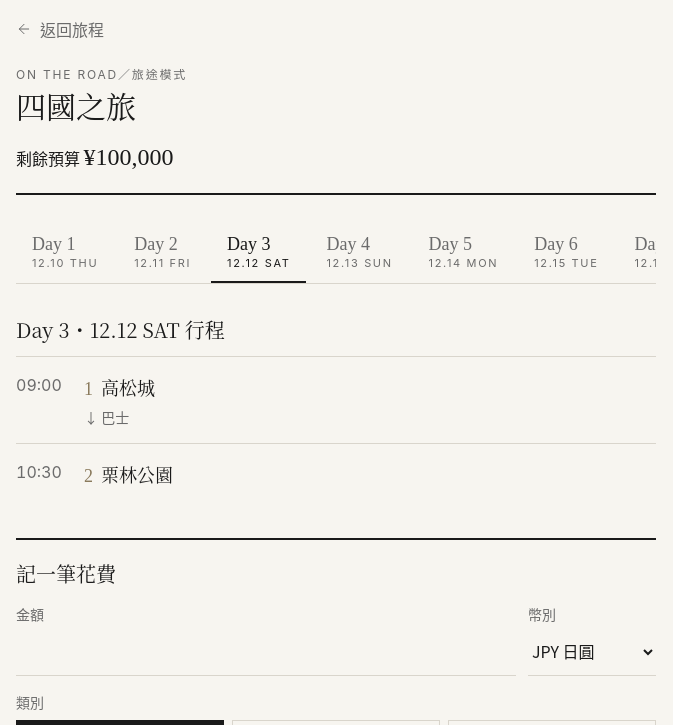
Test: travel mode › opens on today's day with a read-only itinerary and records expenses offline
The width and height of the screenshot is (673, 725).
Expected: the text "高松城" is shown, [101, 374, 155, 400]
Expected: the text "↓ 巴士" is shown, [84, 406, 129, 426]
Type "1500" into the field labelled "金額". click: (266, 652)
box: [16, 628, 516, 676]
(page scrolled)
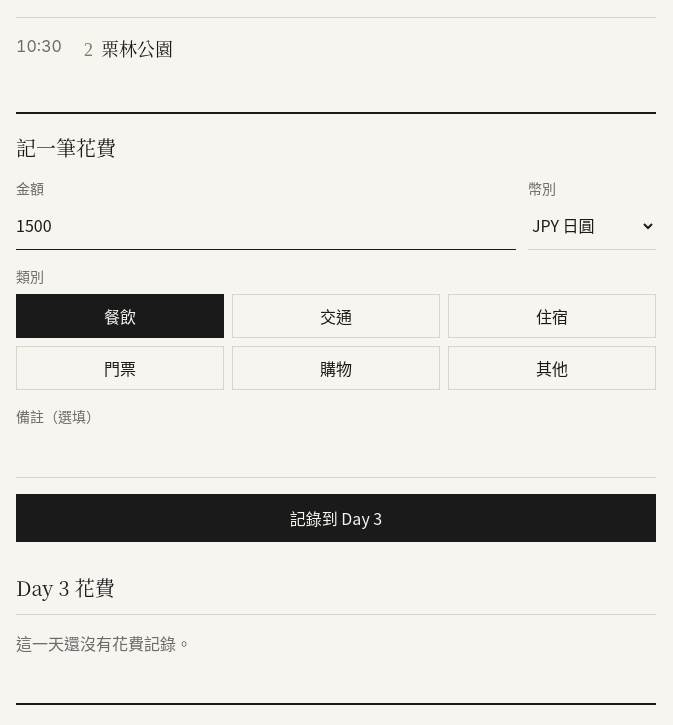
Click the radio button labelled "門票". click: (120, 368)
box: [16, 346, 224, 390]
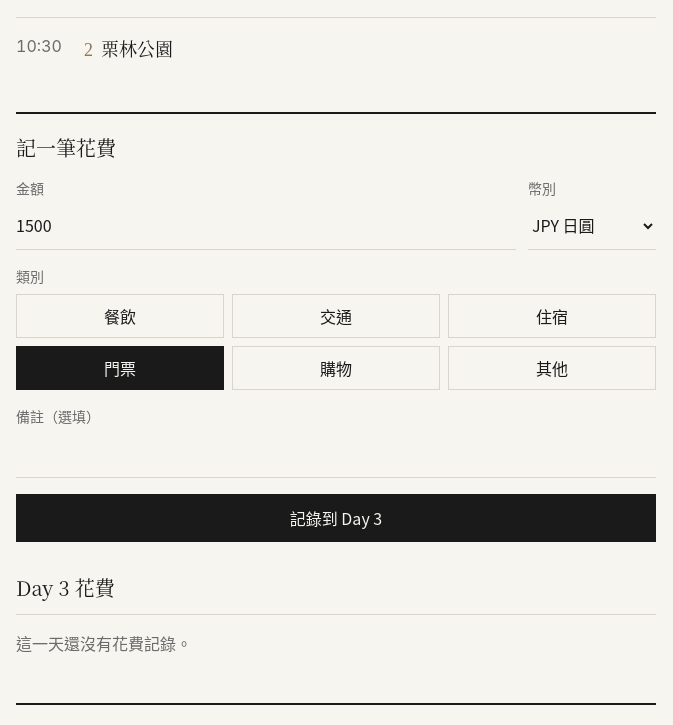
Type "栗林公園" into the field labelled "備註（選填）". click: (336, 454)
box: [16, 430, 656, 478]
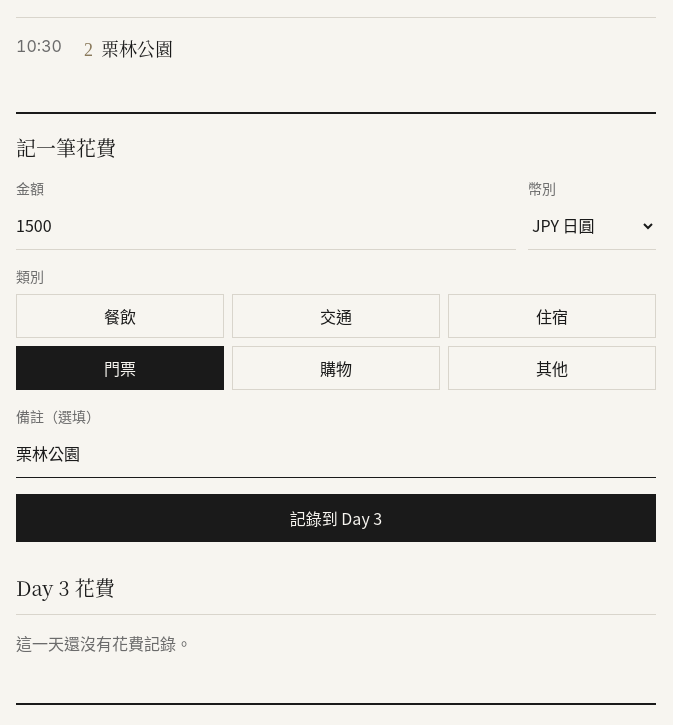
Click the button "記錄到 Day 3". click: (336, 518)
box: [16, 494, 656, 542]
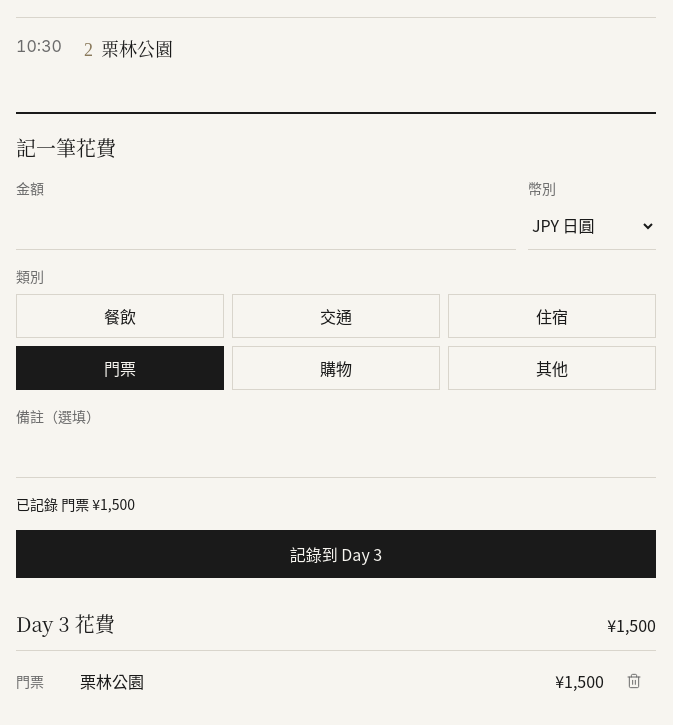
Expected: the message shows "已記錄 門票", [16, 494, 135, 514]
Expected: the text "栗林公園" is shown, [80, 668, 144, 692]
Click the button named "刪除花費". click: (634, 680)
box: [612, 658, 656, 702]
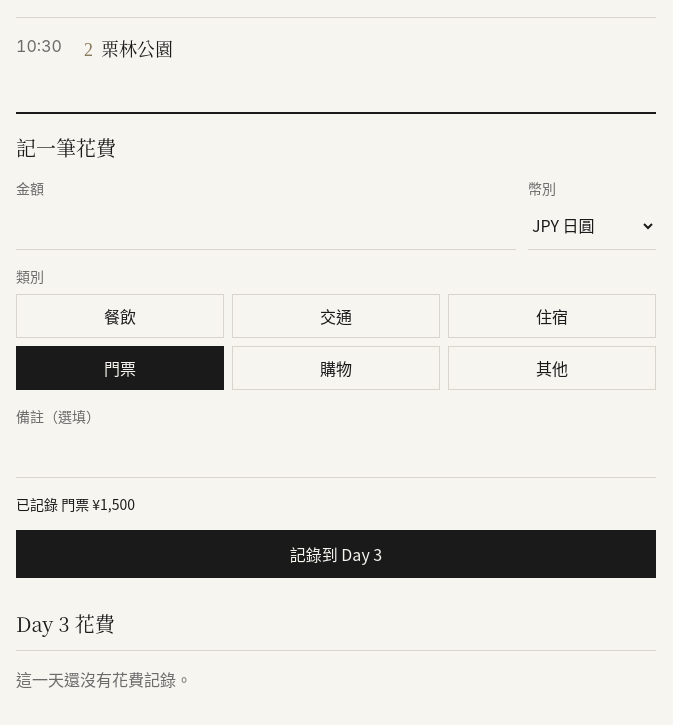
Expected: the text "這一天還沒有花費記錄。" is shown, [16, 650, 656, 706]
